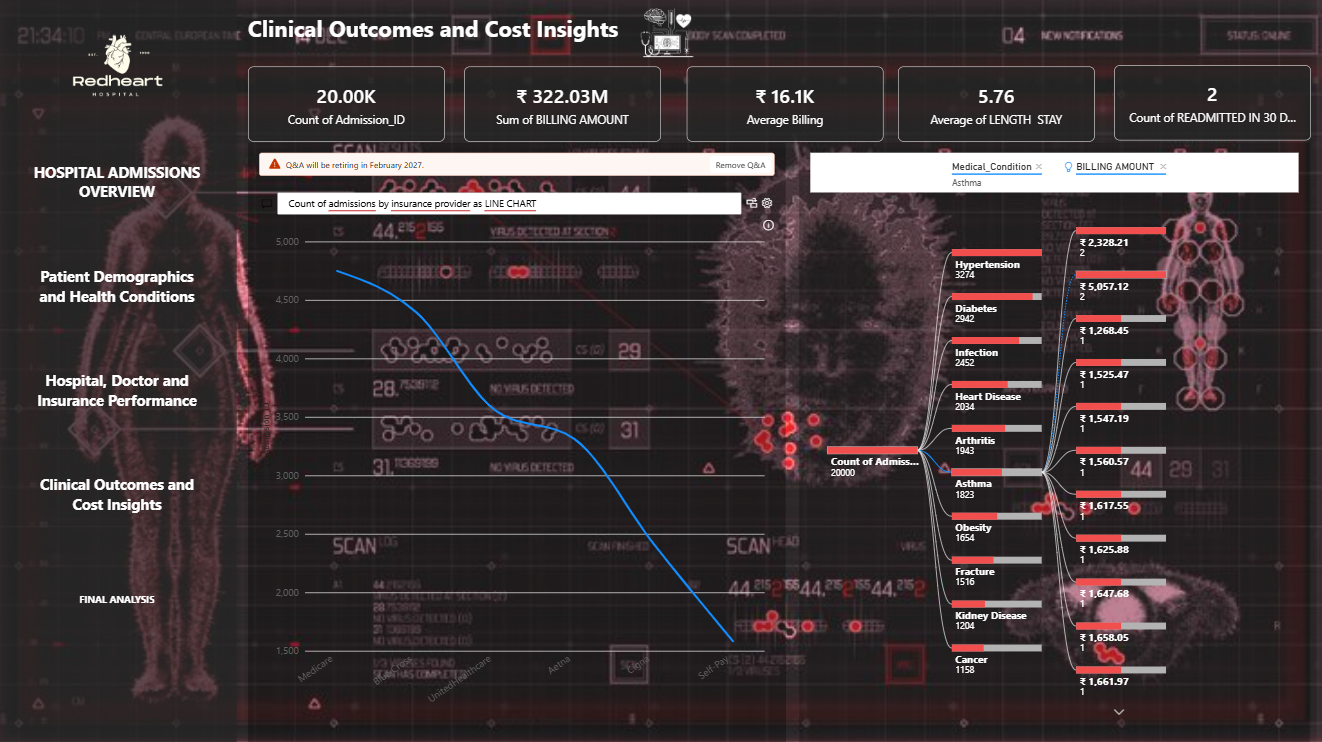

This screenshot's page, from the dashboard's own definition file:
{"tool":"powerbi","page":{"name":"FINAL ANALYSIS","canvas":[1920,1080],"ordinal":4},"visuals":[{"type":"card","fields":{"Values":["Sum(hospital_admissions_patient_analytics.Billing_Amount)"]},"box":[675.6,97.8,284.8,108.7],"z":0,"group":"g1"},{"type":"card","fields":{"Values":["Count(hospital_admissions_patient_analytics.Admission_ID)"]},"box":[362.2,97.8,284.8,108.7],"z":1000,"group":"g1"},{"type":"card","fields":{"Values":["Count(hospital_admissions_patient_analytics.Readmitted_30_Days)"]},"box":[1615.6,95.6,284.8,108.7],"z":2000,"group":"g1"},{"type":"card","fields":{"Values":["Avg(hospital_admissions_patient_analytics.Length_of_Stay)"]},"box":[1302.2,97.8,284.8,108.7],"z":3000,"group":"g1"},{"type":"card","fields":{"Values":["hospital_admissions_patient_analytics.Average Billing"]},"box":[997.8,97.8,284.8,108.7],"z":4000,"group":"g1"},{"type":"shape","box":[0,0,345.7,1080.4],"z":5000,"group":"g1"},{"type":"textbox","box":[362.2,20,1082.2,64.4],"z":6000,"group":"g1"},{"type":"image","box":[0,0,346.7,193.3],"z":7000,"group":"g1"},{"type":"image","box":[675,0,584.1,97.7],"z":8000,"group":"g1"},{"type":"pageNavigator","box":[36.4,193.2,272.7,747.7],"z":9000,"group":"g1"},{"type":"qnaVisual","box":[362.3,207.9,778,872.7],"z":10000,"group":"g1"},{"type":"decompositionTreeVisual","fields":{"ExplainBy":["hospital_admissions_patient_analytics.Medical_Condition","hospital_admissions_patient_analytics.BILLING AMOUNT"],"Analyze":["CountNonNull(hospital_admissions_patient_analytics.Admission_Type)"]},"box":[1160.9,207.9,738.9,872.7],"z":11000,"group":"g1"},{"type":"group","id":"g1","title":"Group 1","box":[0,0,1900.3,1080.6],"z":11001}]}

Visuals, with their boxes in screenshot pixels (x1, y1, x2, y2), scaled from the page's 1920x1080 canvas onto the 1322x742 screenshot:
card - Sum(hospital_admissions_patient_analytics.Billing_Amount): 465, 67, 661, 142
card - Count(hospital_admissions_patient_analytics.Admission_ID): 249, 67, 445, 142
card - Count(hospital_admissions_patient_analytics.Readmitted_30_Days): 1112, 66, 1309, 140
card - Avg(hospital_admissions_patient_analytics.Length_of_Stay): 897, 67, 1093, 142
card - hospital_admissions_patient_analytics.Average Billing: 687, 67, 883, 142
shape: 0, 0, 238, 741
textbox: 249, 14, 995, 58
image: 0, 0, 239, 133
image: 465, 0, 867, 67
pageNavigator: 25, 133, 213, 646
qnaVisual: 249, 143, 785, 741
decompositionTreeVisual - hospital_admissions_patient_analytics.Medical_Condition x hospital_admissions_patient_analytics.BILLING AMOUNT: 799, 143, 1308, 741
"Group 1" group: 0, 0, 1308, 741
